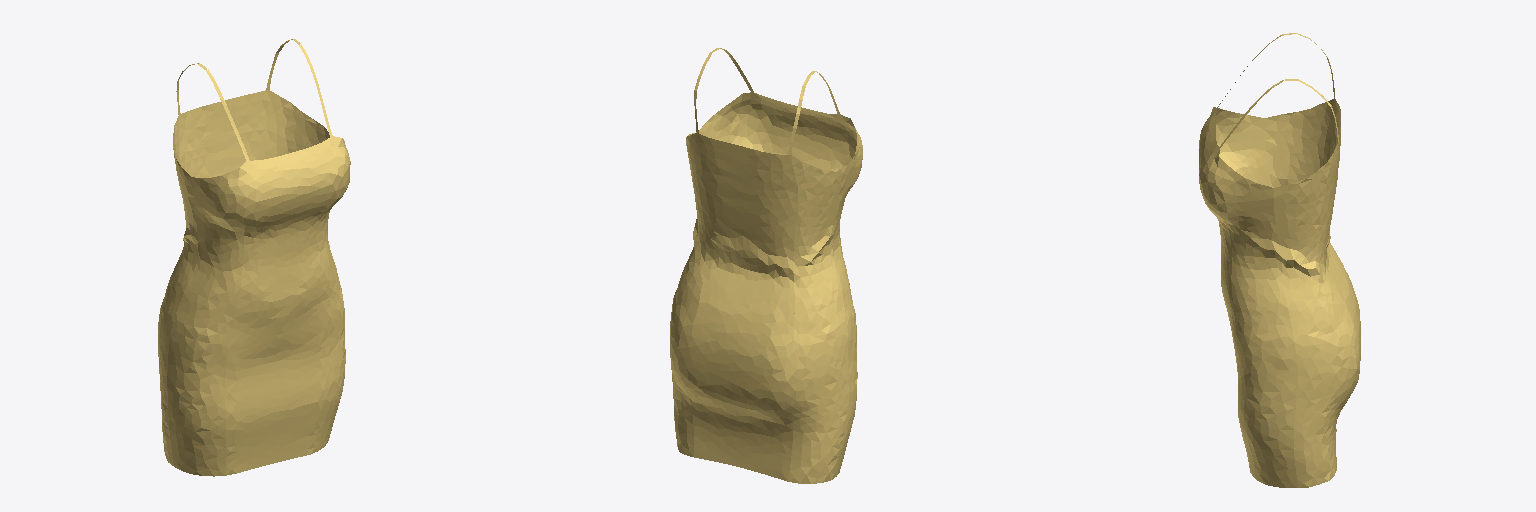
3 renders of one model, left to right at view 1: azimuth 30°, elevation 25°; view 2: azimuth 150°, elevation 25°; view 3: azimuth 270°, elevation 25°, orthographic.
Parts seen in each view (by area): view 1: small_beigeBodycon_noinside:Mesh small_beigeBodycon_noinside:pol; view 2: small_beigeBodycon_noinside:Mesh small_beigeBodycon_noinside:pol; view 3: small_beigeBodycon_noinside:Mesh small_beigeBodycon_noinside:pol.
Part boxes in pixels (bbox=[...]): small_beigeBodycon_noinside:Mesh small_beigeBodycon_noinside:pol: bbox=[158, 39, 350, 476]; small_beigeBodycon_noinside:Mesh small_beigeBodycon_noinside:pol: bbox=[670, 48, 862, 483]; small_beigeBodycon_noinside:Mesh small_beigeBodycon_noinside:pol: bbox=[1199, 33, 1360, 487].
Size of the model in its own units: 3.27 by 7.32 by 2.71.
10 materials, 1 textured.